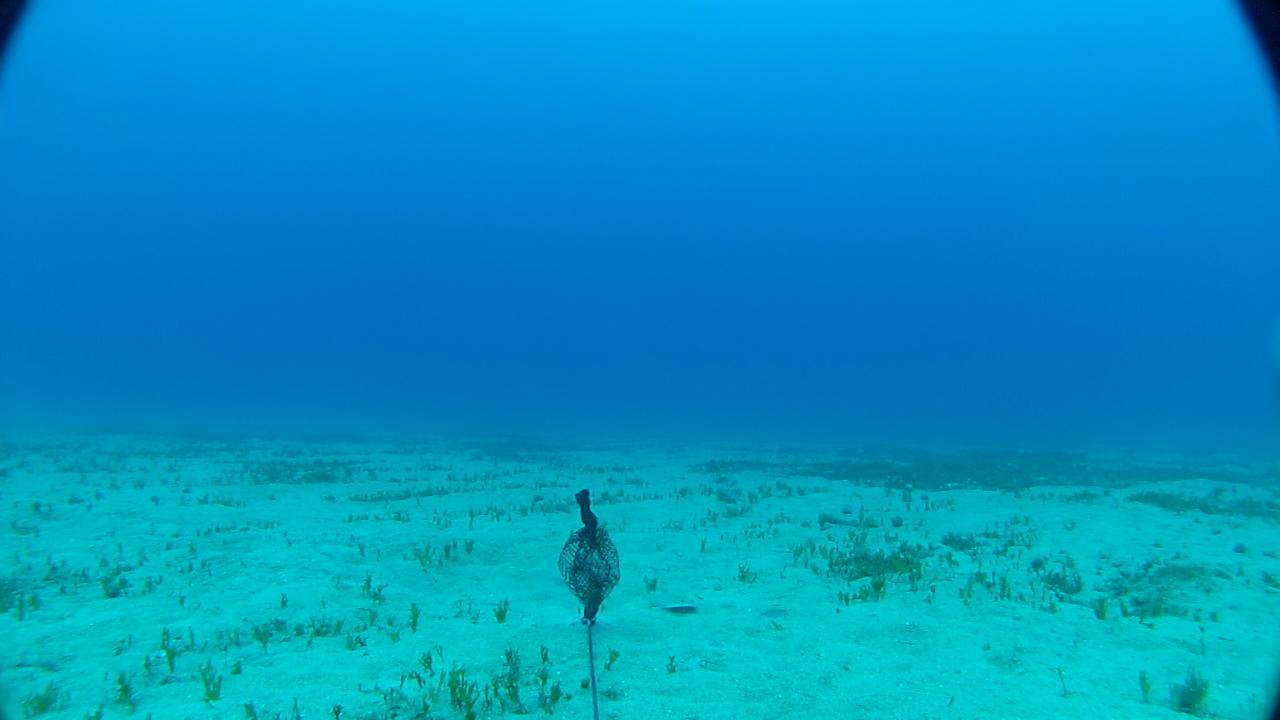bothus: (654, 594, 697, 613)
